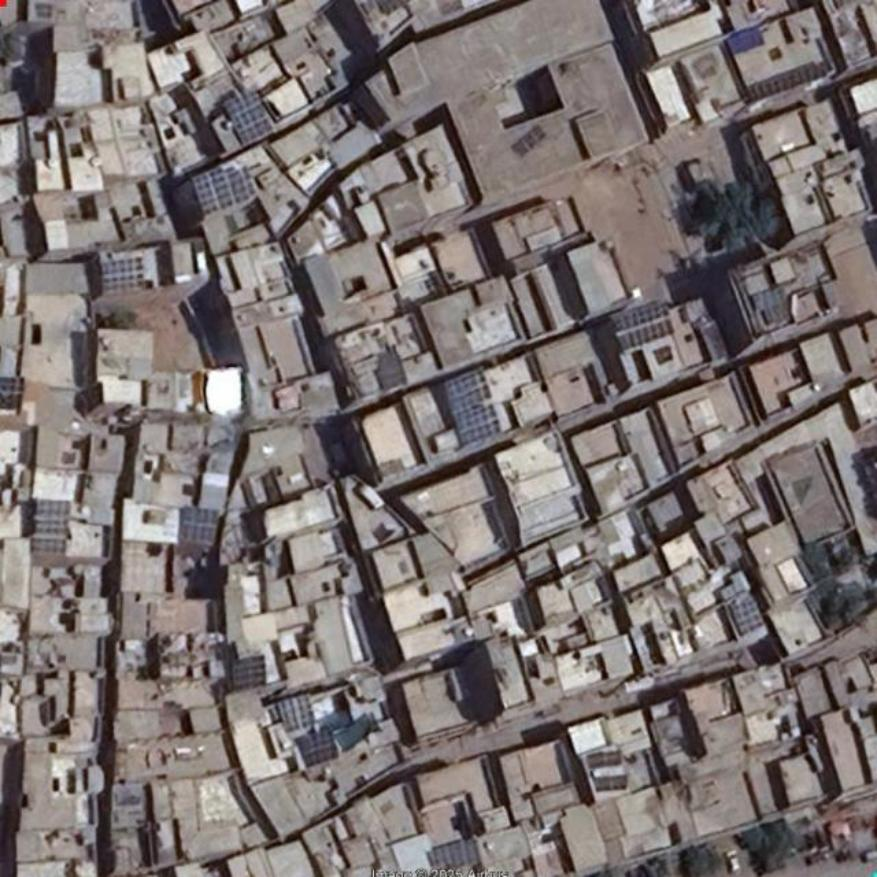Solarpanel: (441, 364, 503, 447), (609, 303, 679, 352), (196, 165, 254, 216), (750, 64, 827, 101), (224, 91, 273, 147), (30, 501, 70, 553), (428, 837, 482, 873), (177, 506, 219, 545), (100, 257, 143, 294), (229, 655, 265, 693), (276, 697, 316, 731), (512, 125, 548, 161), (730, 593, 762, 632), (588, 752, 622, 768), (595, 778, 627, 791)
